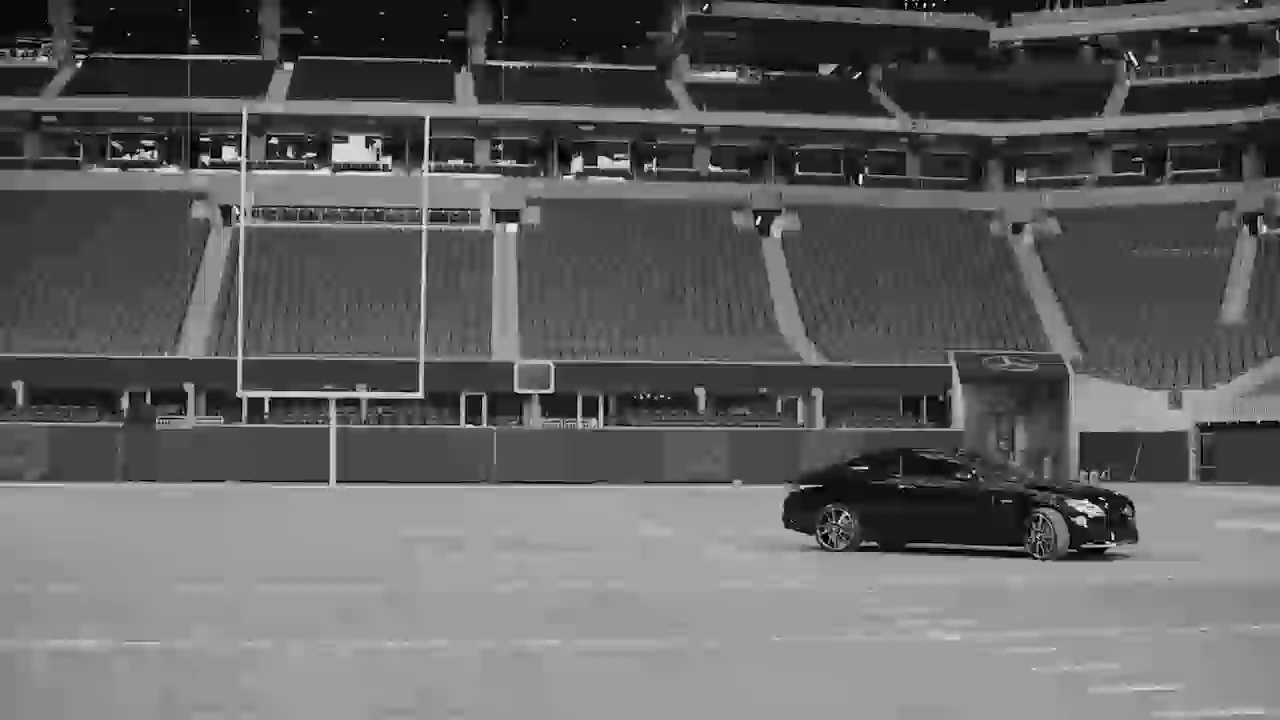car: (773, 440, 1144, 566)
